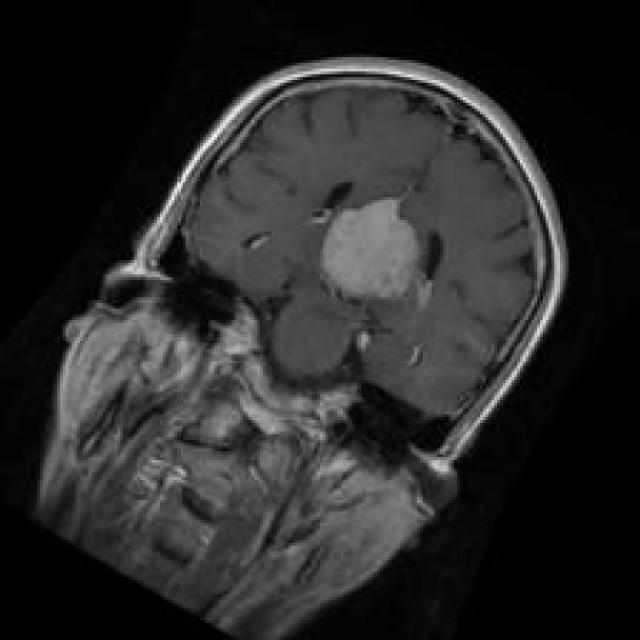meningioma_tumor: (310, 180, 440, 324)
